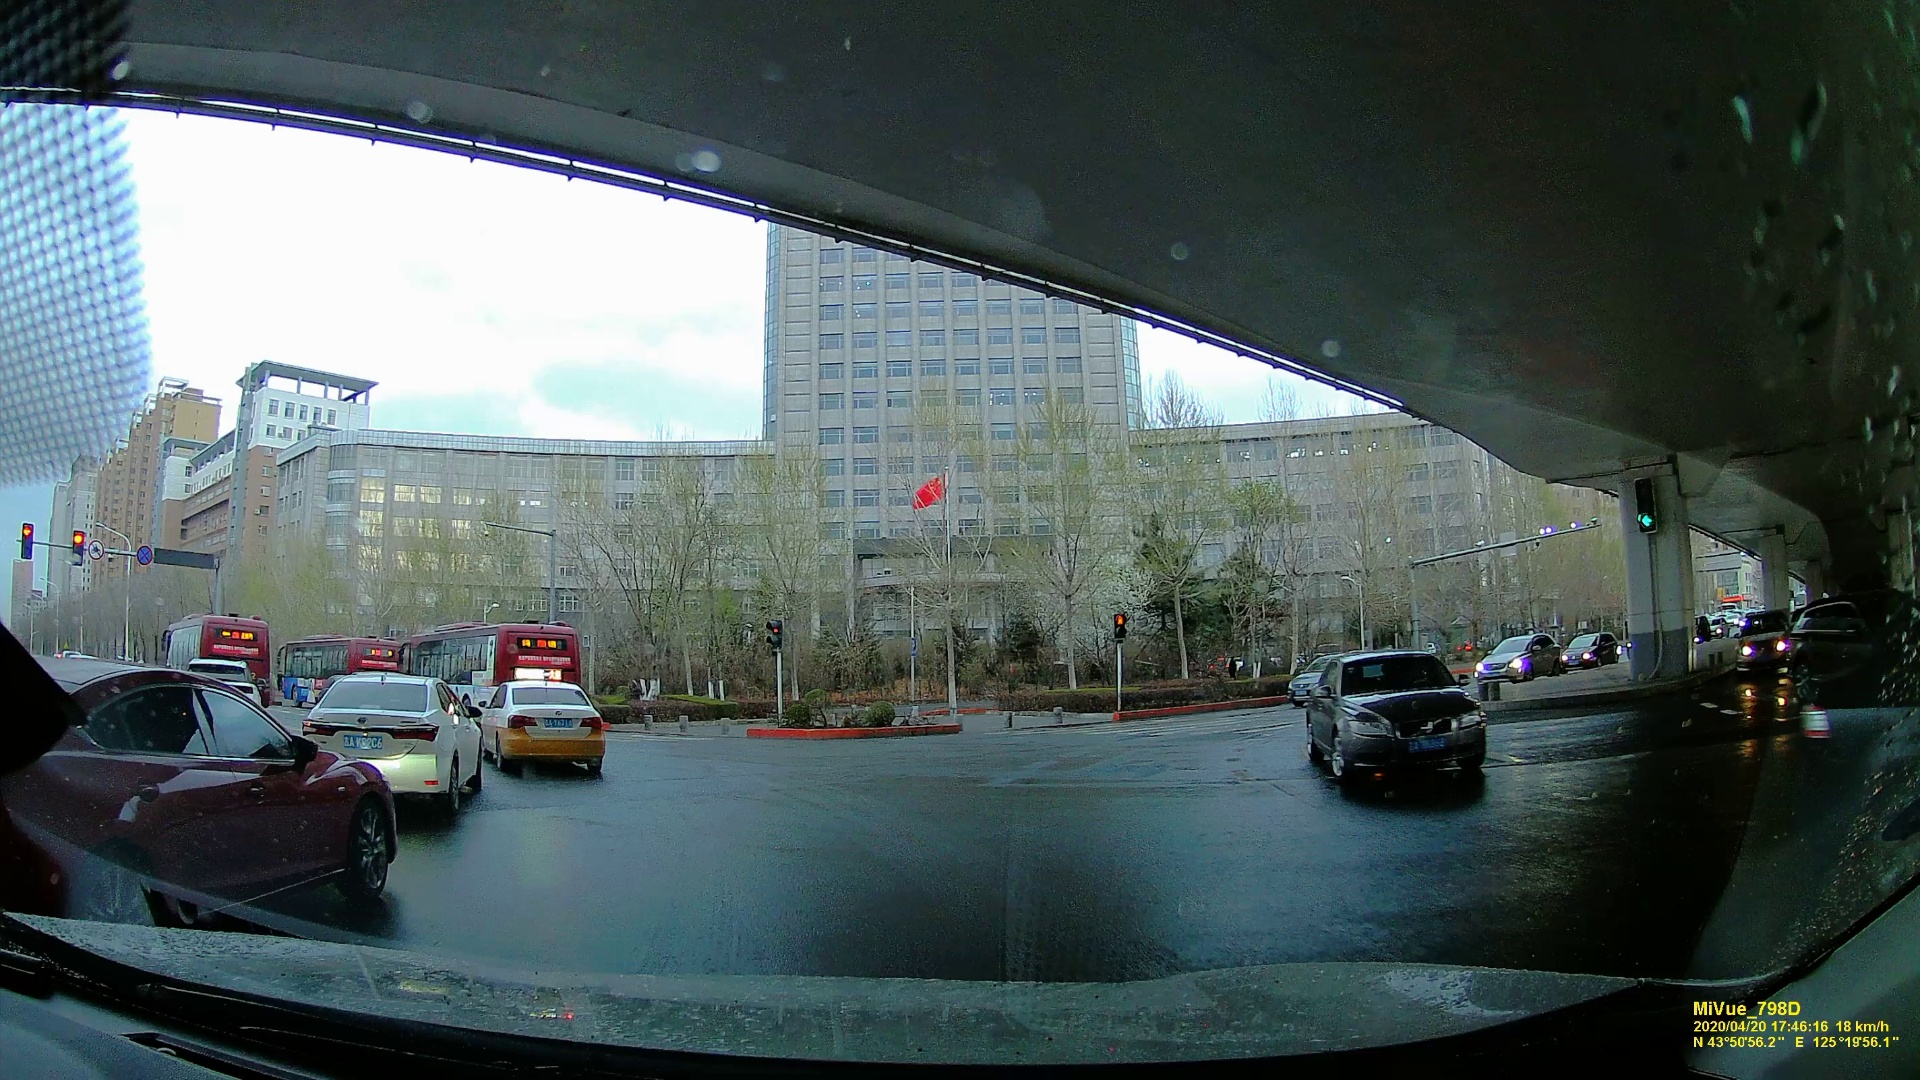bus: (407, 620, 579, 684), (160, 615, 272, 694), (277, 636, 386, 702)
traffic_sign: (18, 524, 34, 559), (69, 529, 84, 556), (764, 622, 781, 647), (1113, 615, 1129, 640), (137, 545, 153, 564), (88, 541, 103, 560)
vehicle: (17, 659, 394, 919), (1294, 645, 1490, 793), (298, 669, 483, 818), (471, 680, 608, 778), (1472, 633, 1557, 682), (1731, 616, 1791, 667), (1561, 633, 1619, 669)
